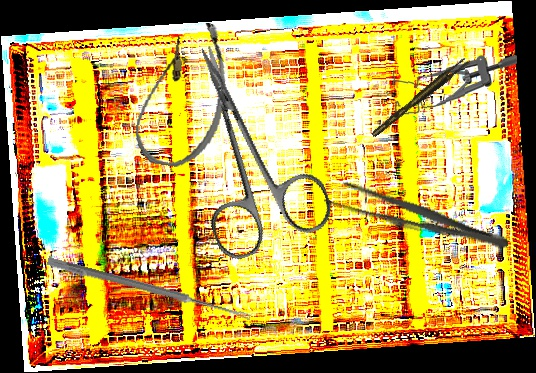Cannula: (131, 14, 235, 173)
Dressing Forceps: (322, 175, 513, 259)
Iris Scissors: (153, 25, 338, 265)
Speculum: (391, 52, 520, 116)
Surgical Spoon: (46, 256, 252, 322)
Tissue Forceps: (367, 56, 473, 138)
